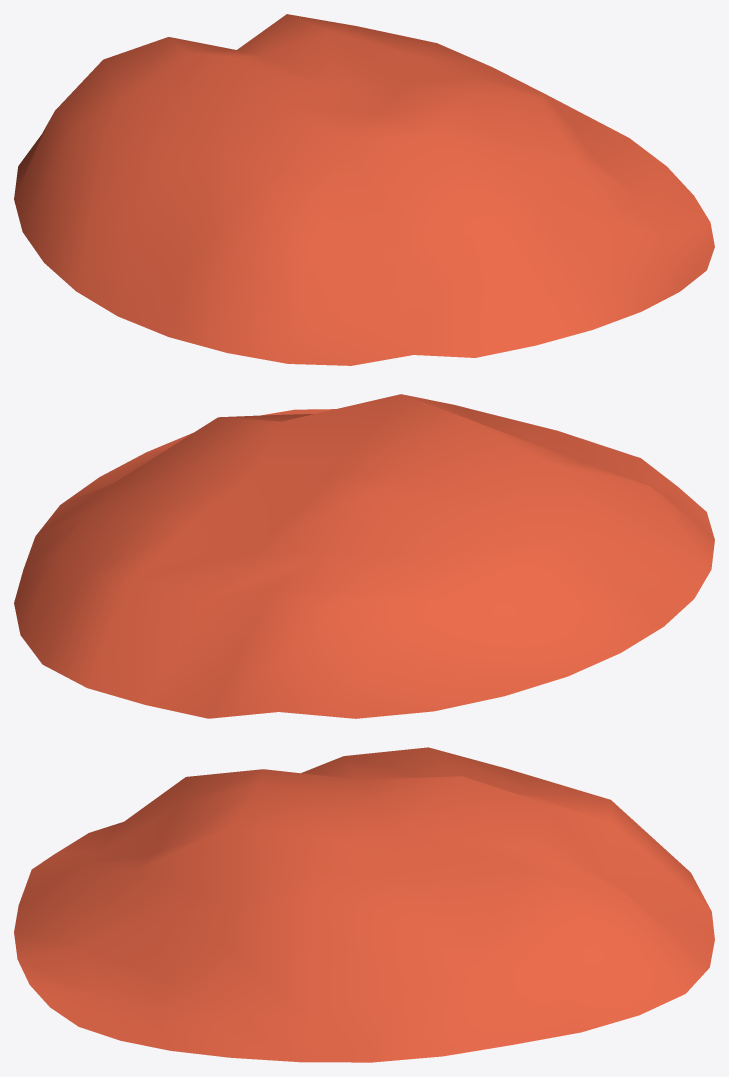
File: SandHill3_Bogdan.fbx
The picture shows the model from 3 angles, top to bottom: view 1: azimuth 30°, elevation 25°; view 2: azimuth 150°, elevation 25°; view 3: azimuth 270°, elevation 25°; orthographic projection. The views are drawn at different scales.
Parts seen in each view (by area): view 1: SandHill3; view 2: SandHill3; view 3: SandHill3.
Part boxes in pixels (left/top/right/bottom): SandHill3: left=14, top=14, right=714, bottom=365; SandHill3: left=14, top=394, right=714, bottom=718; SandHill3: left=14, top=747, right=714, bottom=1062.
Bounding box in the file's own units: 578 × 126 × 645.
